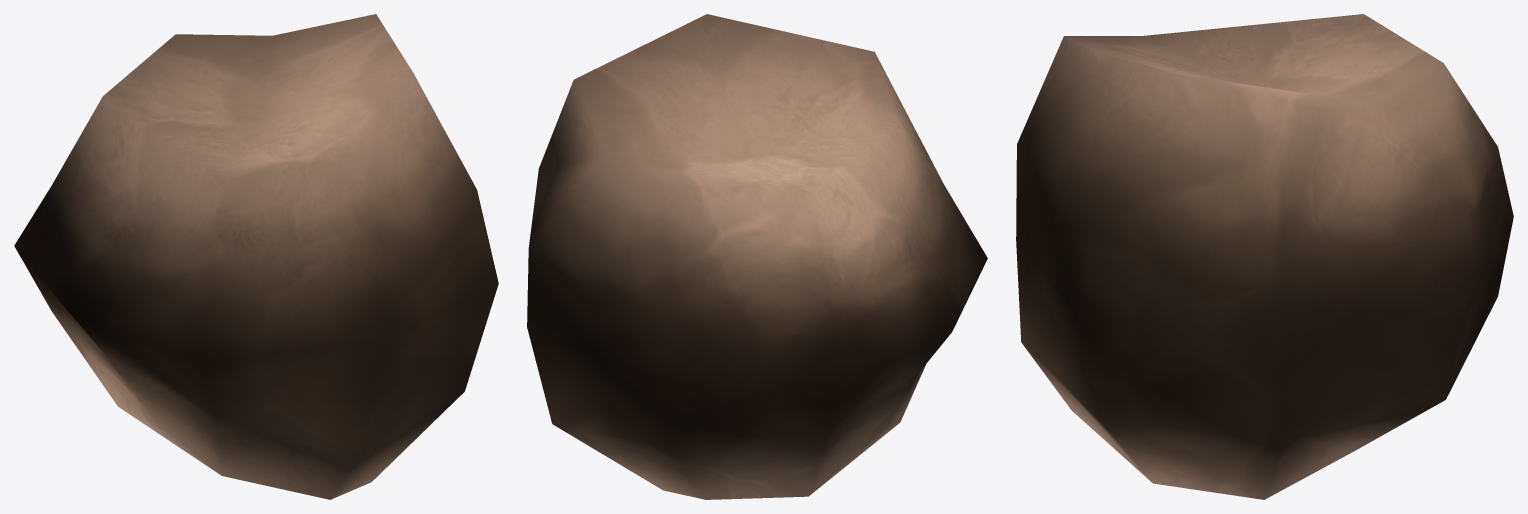
Rendered from rock_1.fbx.
3 views of the same model, side by side, from view 1: azimuth 30°, elevation 25°; view 2: azimuth 150°, elevation 25°; view 3: azimuth 270°, elevation 25° (orthographic). The views are drawn at different scales.
Parts seen in each view (by area): view 1: polySurface32; view 2: polySurface32; view 3: polySurface32.
Boxes of the visible parts, <box> form: polySurface32: <box>14,14,498,499</box>; polySurface32: <box>527,14,987,499</box>; polySurface32: <box>1016,14,1513,499</box>.
Size of the model in its own units: 46.37 by 45.9 by 47.79.
